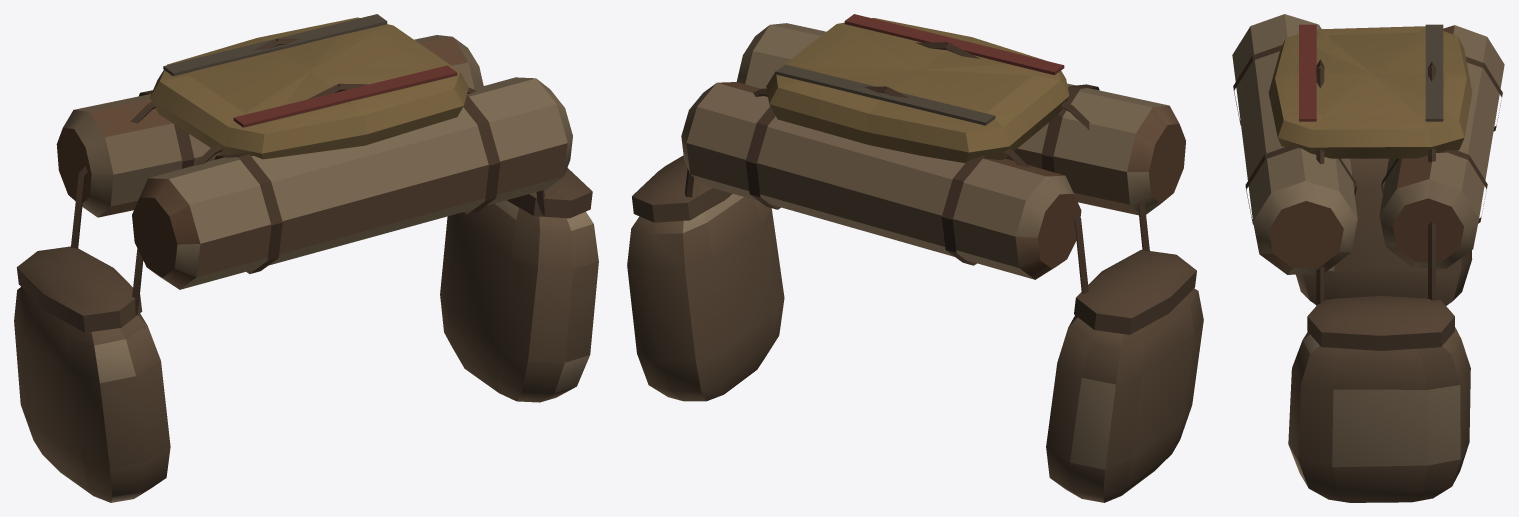
The model's file is carga_cueros.glb.
The picture shows the model from 3 angles, left to right: view 1: azimuth 30°, elevation 25°; view 2: azimuth 150°, elevation 25°; view 3: azimuth 270°, elevation 25°; orthographic projection. The views are drawn at different scales.
Visible parts, largest first — view 1: CargaCueros; view 2: CargaCueros; view 3: CargaCueros.
Part boxes in pixels (x1=…): CargaCueros: x1=14, y1=14, x2=598, y2=502; CargaCueros: x1=627, y1=14, x2=1203, y2=502; CargaCueros: x1=1232, y1=14, x2=1504, y2=502.
Bounding box in the file's own units: 1.07 × 0.737 × 0.537.
